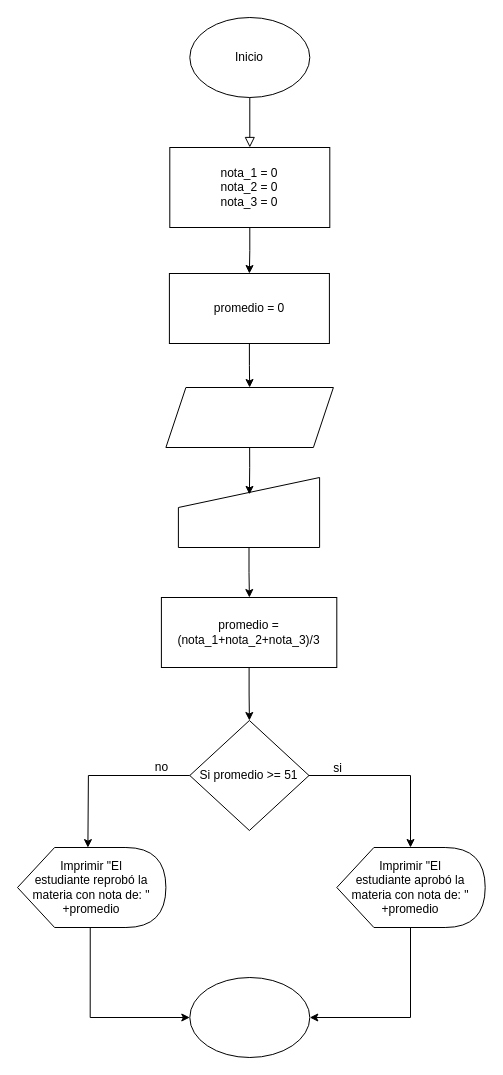
Image size: 503x1075. Some labels were removed from this diagram. The box of each missing label's shape, as (x1, y1, x2, y2) in pixels:
"Ingrese las 3 notas parciales del estudiante:": (165, 386, 333, 448)
Fin: (189, 976, 310, 1058)
Leer (nota_1,nota_2,nota_3): (177, 476, 320, 548)
